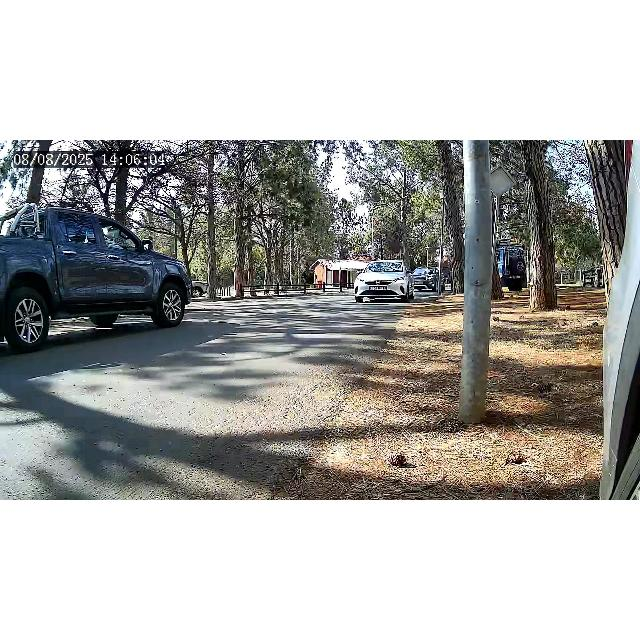car: (0, 202, 194, 354), (354, 260, 410, 300), (411, 266, 443, 292)
plate: (369, 286, 389, 290)
